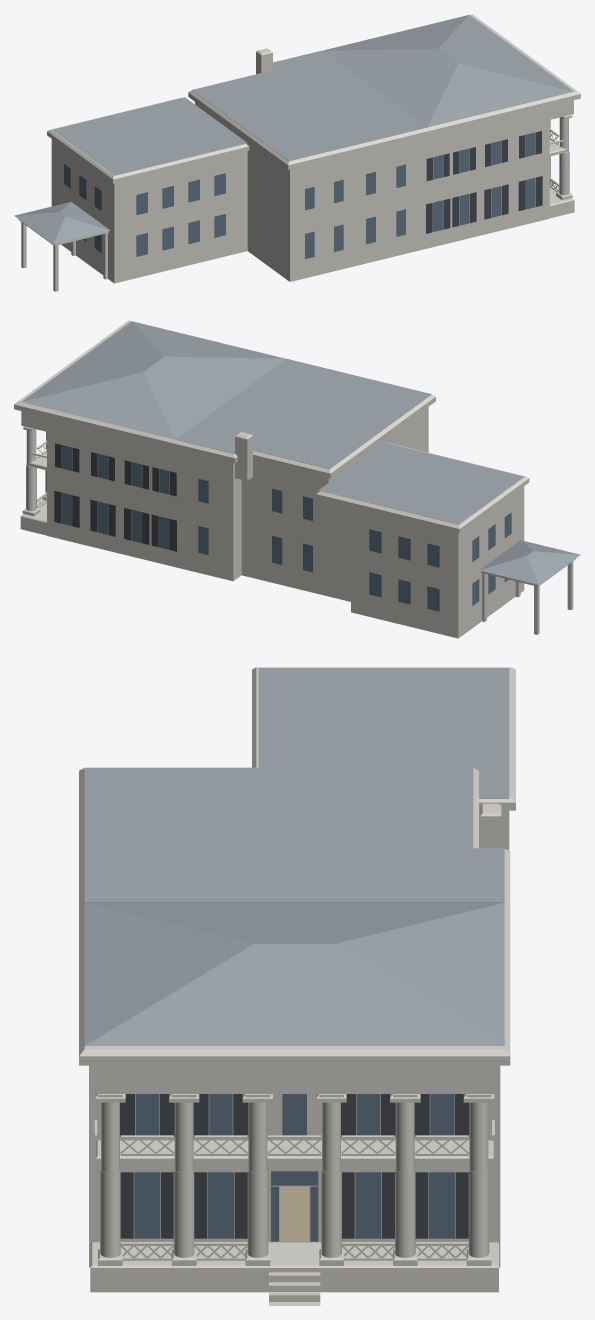
The model's file is atx-governors-mansion.glb.
The picture shows the model from 3 angles, top to bottom: view 1: azimuth 30°, elevation 25°; view 2: azimuth 150°, elevation 25°; view 3: azimuth 270°, elevation 25°; orthographic projection. The views are drawn at different scales.
Parts seen in each view (by area): view 1: Texas Governor's Mansion; view 2: Texas Governor's Mansion; view 3: Texas Governor's Mansion.
Part boxes in pixels (<box>): Texas Governor's Mansion: <box>14,14,580,291</box>; Texas Governor's Mansion: <box>14,320,580,638</box>; Texas Governor's Mansion: <box>79,667,515,1305</box>.
Bounding box in the file's own units: 50.3 × 13.7 × 19.45.
